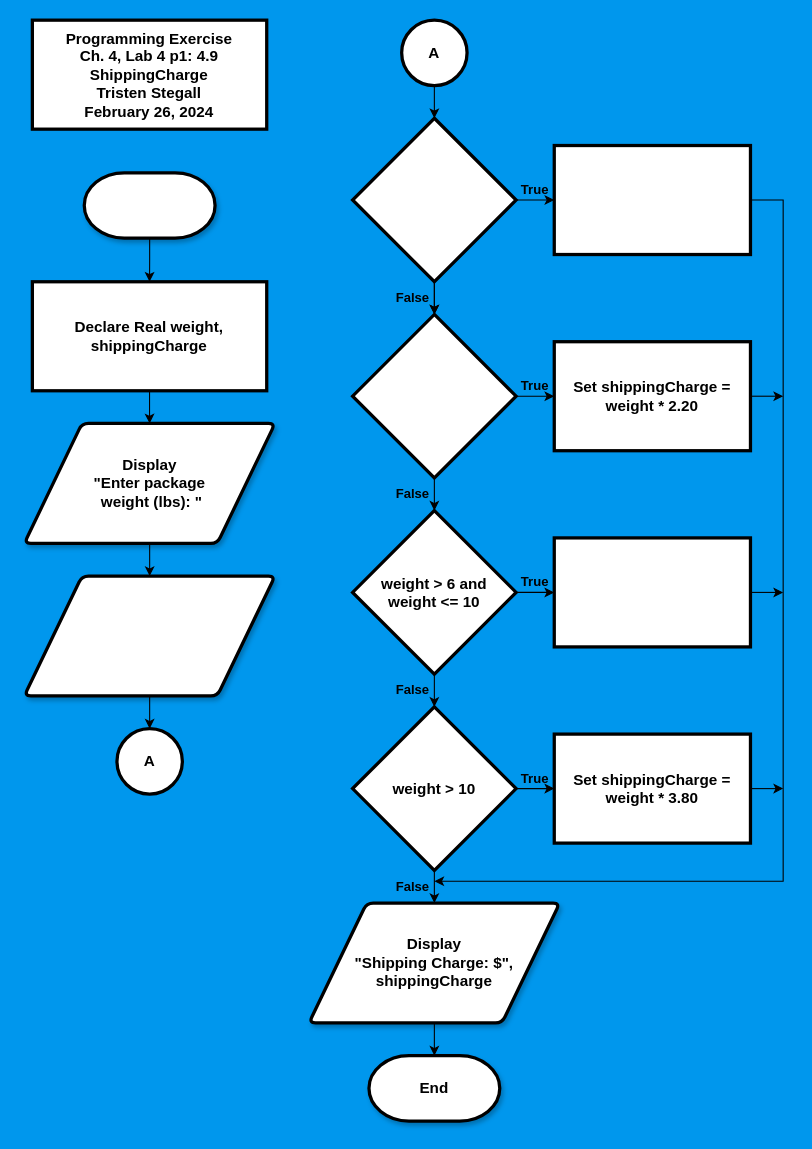
Some shapes in this 812 by 1149 pixel diagram are drawn without their labels. The centre of each missing label's shape, as x and y in pixels:
Input weight: the point at 150,637
Set shippingCharge = weight * 1.10: the point at 652,199
Set shippingCharge = weight * 3.70: the point at 652,592
Start: the point at 150,206
weight <= 2: the point at 433,199
weight > 2 and weight <= 6: the point at 433,395
